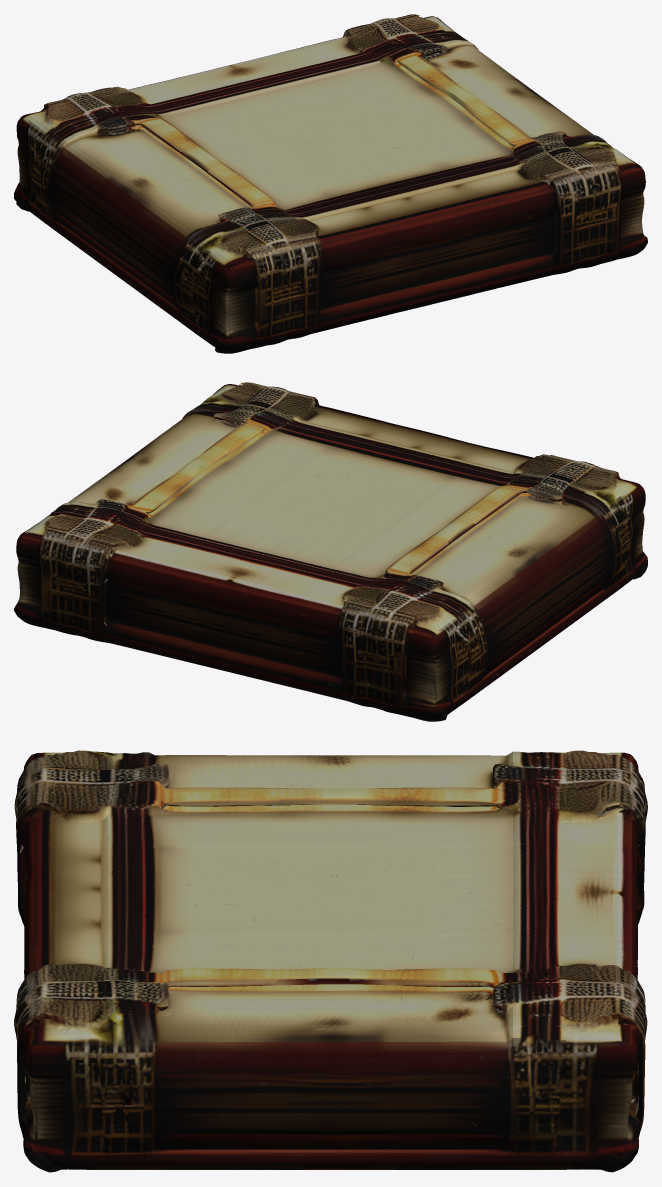
Rendered from prop.glb.
The picture shows the model from 3 angles, top to bottom: view 1: azimuth 30°, elevation 25°; view 2: azimuth 150°, elevation 25°; view 3: azimuth 270°, elevation 25°; orthographic projection. The views are drawn at different scales.
Visible parts, largest first — view 1: geometry_0; view 2: geometry_0; view 3: geometry_0.
Boxes of the visible parts, x1=… form: geometry_0: x1=14, y1=14, x2=647, y2=353; geometry_0: x1=14, y1=382, x2=647, y2=721; geometry_0: x1=14, y1=750, x2=647, y2=1172.
Bounding box in the file's own units: 1.95 × 0.444 × 1.69.
1 material, 1 textured.
